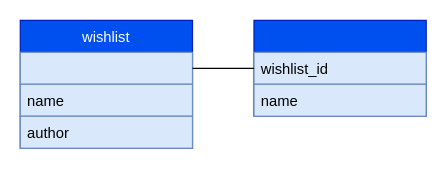
Image size: 446x169. Some labels were removed from this diagram. Here are the shapes that lost their labels. From the top down, the box of each, then its label:
(19, 51, 192, 84): id
(253, 19, 426, 116): item
